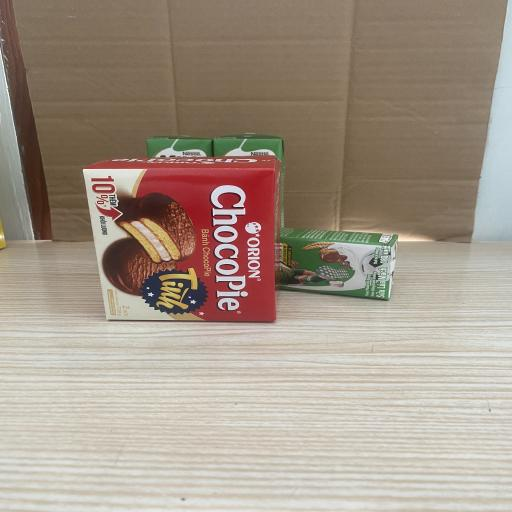chocopie: (82, 156, 282, 322)
milo: (276, 227, 398, 301), (212, 133, 284, 227), (146, 135, 214, 157)
